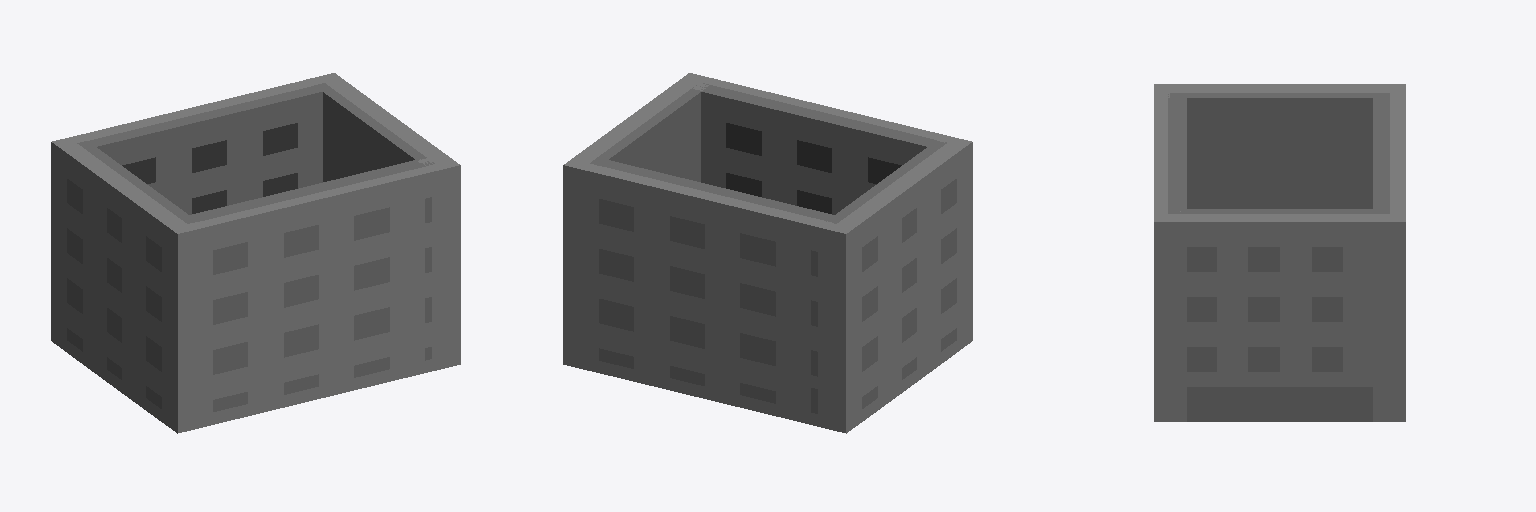
File: MineCart.obj
3 views of the same model, side by side, from view 1: azimuth 30°, elevation 25°; view 2: azimuth 150°, elevation 25°; view 3: azimuth 270°, elevation 25° (orthographic).
Parts seen in each view (by area): view 1: ???????; view 2: ???????; view 3: ???????.
Part boxes in pixels (left/top/right/bottom): ???????: left=51, top=73, right=460, bottom=433; ???????: left=563, top=73, right=972, bottom=433; ???????: left=1154, top=84, right=1405, bottom=421.
Bounding box in the file's own units: 126 × 87.09 × 97.16.